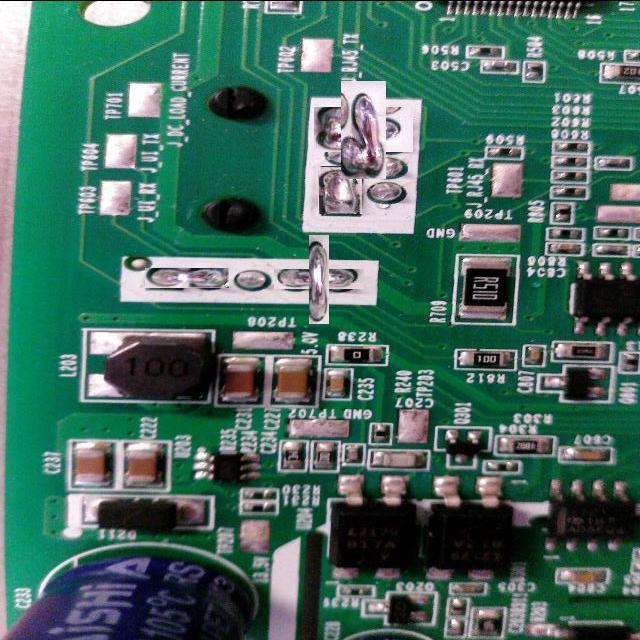Short_circuit: (328, 94, 400, 166), (292, 252, 346, 306), (318, 166, 362, 214), (145, 268, 229, 288)
